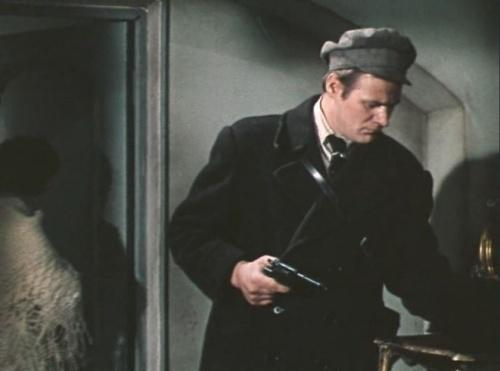Gun: (263, 257, 325, 299)
